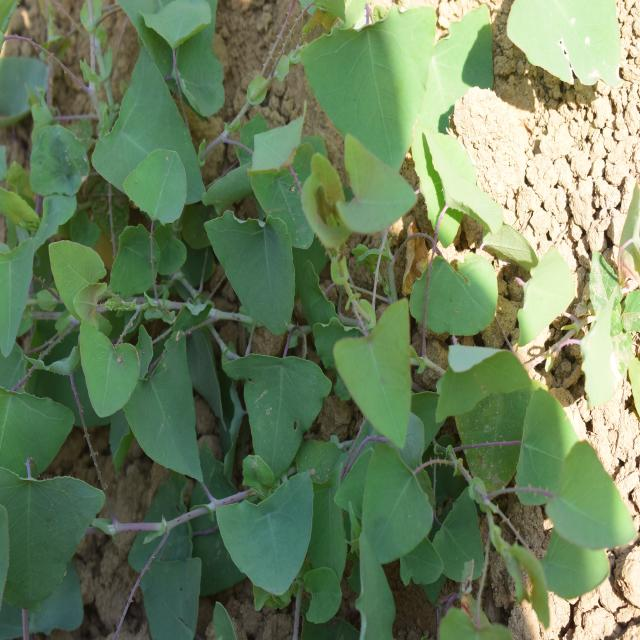Asiatic_Smartweed: (29, 124, 209, 484), (428, 311, 618, 604), (196, 332, 338, 586), (312, 0, 484, 197), (316, 303, 441, 568), (207, 66, 312, 370)
